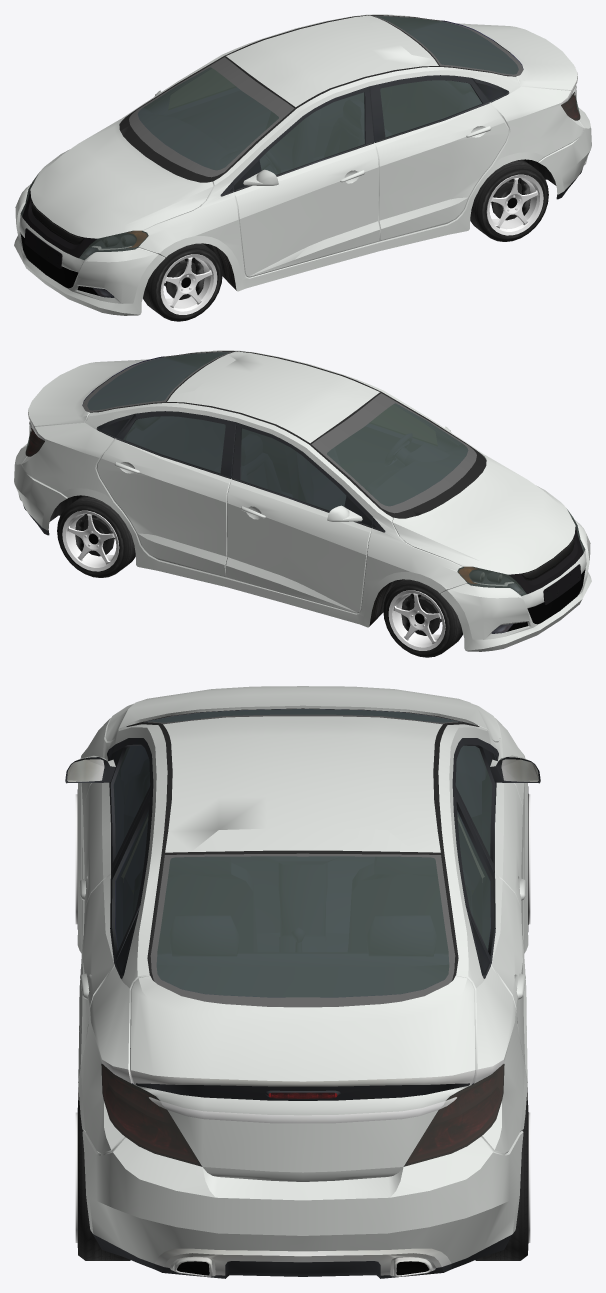
File: kiri10.fbx
3 renders of one model, top to bottom at view 1: azimuth 30°, elevation 25°; view 2: azimuth 150°, elevation 25°; view 3: azimuth 270°, elevation 25°, orthographic. The views are drawn at different scales.
Visible parts, largest first — view 1: body.001, glass.001, interior, plastic_trim, wheels, glass_trim_colour, headlight_left; view 2: body.001, glass.001, interior, plastic_trim, wheels, glass_trim_colour, headlight_left; view 3: body.001, glass.001, interior, plastic_trim, stoplights.001, glass_trim_colour, wheels.
Boxes of the visible parts, x1,y1,x2,y2 form: body.001: [14, 14, 591, 315]; glass.001: [138, 16, 518, 174]; interior: [138, 16, 523, 173]; plastic_trim: [20, 15, 587, 299]; wheels: [143, 159, 548, 321]; glass_trim_colour: [129, 15, 523, 177]; headlight_left: [20, 173, 148, 297]; body.001: [14, 350, 591, 651]; glass.001: [87, 352, 467, 510]; interior: [82, 353, 467, 509]; plastic_trim: [18, 351, 585, 635]; wheels: [57, 495, 462, 657]; glass_trim_colour: [82, 351, 476, 513]; headlight_left: [457, 509, 585, 633]; body.001: [76, 686, 529, 1263]; glass.001: [113, 709, 492, 997]; interior: [114, 709, 491, 1084]; plastic_trim: [65, 708, 540, 1278]; stoplights.001: [101, 1064, 504, 1165]; glass_trim_colour: [144, 708, 461, 1007]; wheels: [75, 786, 530, 1260].
Bounding box in the file's own units: 436 × 144 × 171.
